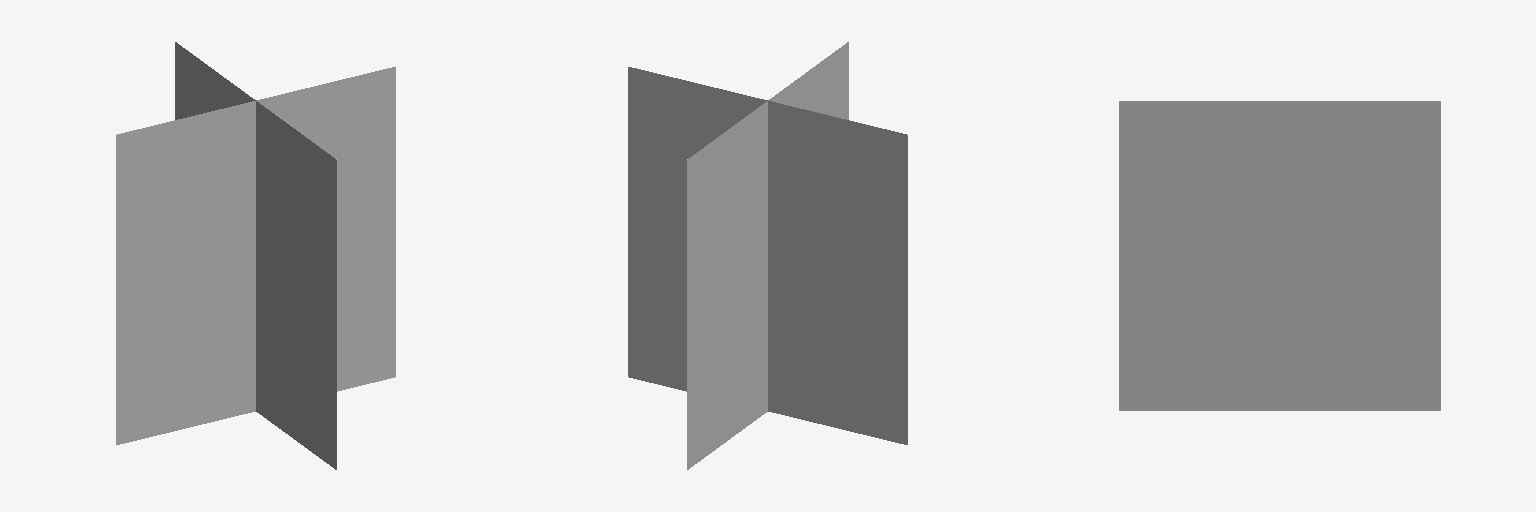
Rendered from treee.obj.
3 renders of one model, left to right at view 1: azimuth 30°, elevation 25°; view 2: azimuth 150°, elevation 25°; view 3: azimuth 270°, elevation 25°, orthographic.
Parts seen in each view (by area): view 1: Box003, Box001; view 2: Box003, Box001; view 3: Box001.
Boxes of the visible parts, x1=… form: Box003: x1=116, y1=67, x2=395, y2=444; Box001: x1=175, y1=42, x2=336, y2=469; Box003: x1=628, y1=67, x2=907, y2=444; Box001: x1=687, y1=42, x2=848, y2=469; Box001: x1=1119, y1=101, x2=1440, y2=410.
Bounding box in the file's own units: 48.41 × 51.42 × 48.41.